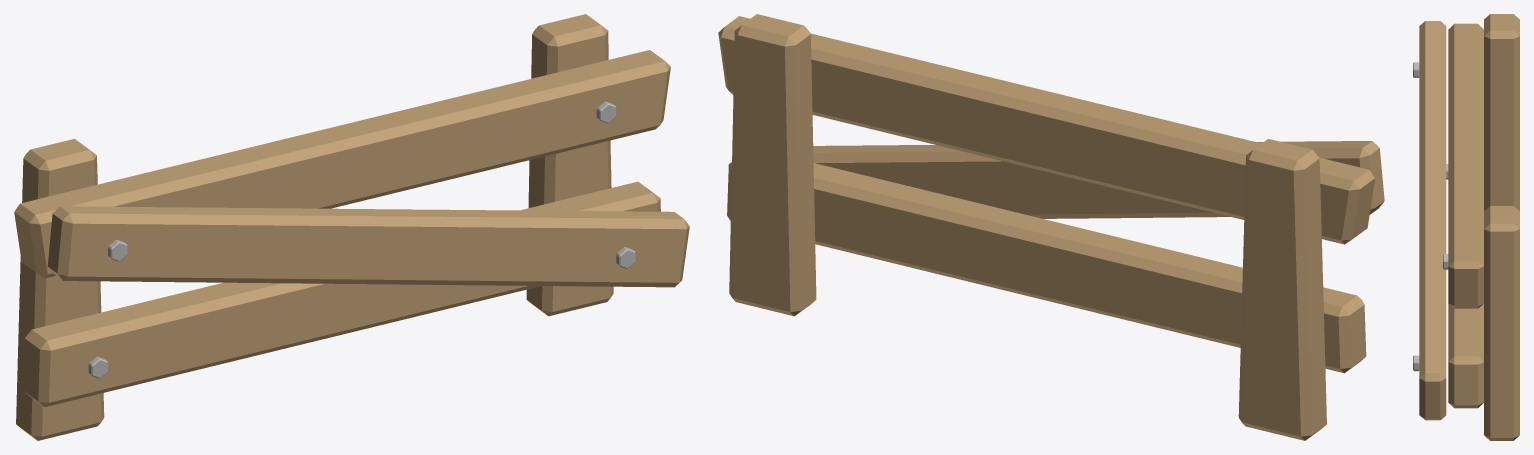
Rendered from Fence_02.glb.
3 views of the same model, side by side, from view 1: azimuth 30°, elevation 25°; view 2: azimuth 150°, elevation 25°; view 3: azimuth 270°, elevation 25° (orthographic). The views are drawn at different scales.
Visible parts, largest first — view 1: Fence_02; view 2: Fence_02; view 3: Fence_02.
Part boxes in pixels (x1,y1,x2,y2): Fence_02: [14, 14, 689, 440]; Fence_02: [718, 14, 1384, 440]; Fence_02: [1413, 14, 1519, 440].
Size of the model in its own units: 15.01 by 6.22 by 2.8.
